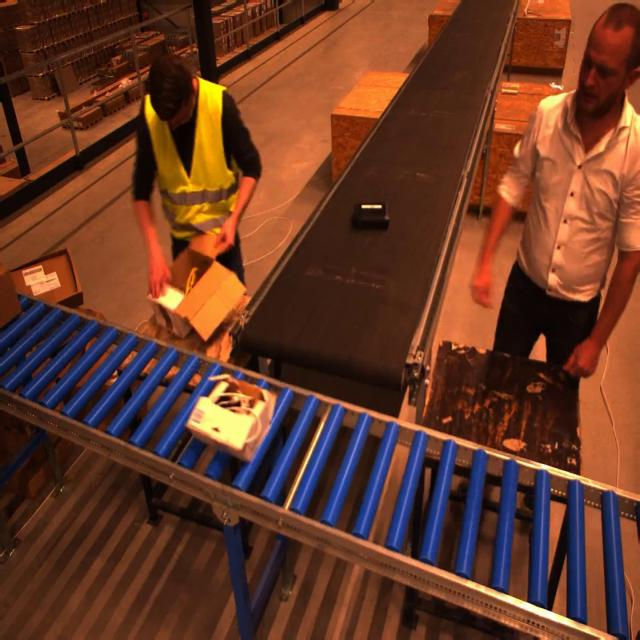box: (148, 231, 249, 347), (6, 249, 82, 313)
product: (186, 377, 274, 464), (147, 284, 191, 337), (351, 201, 391, 230)
